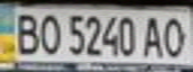0: (118, 12, 139, 57)
2: (81, 11, 103, 56)
4: (100, 12, 121, 57)
5: (63, 11, 84, 56)
A: (139, 12, 169, 59)
B: (9, 9, 42, 56)
O: (160, 14, 190, 58), (36, 10, 63, 56)
